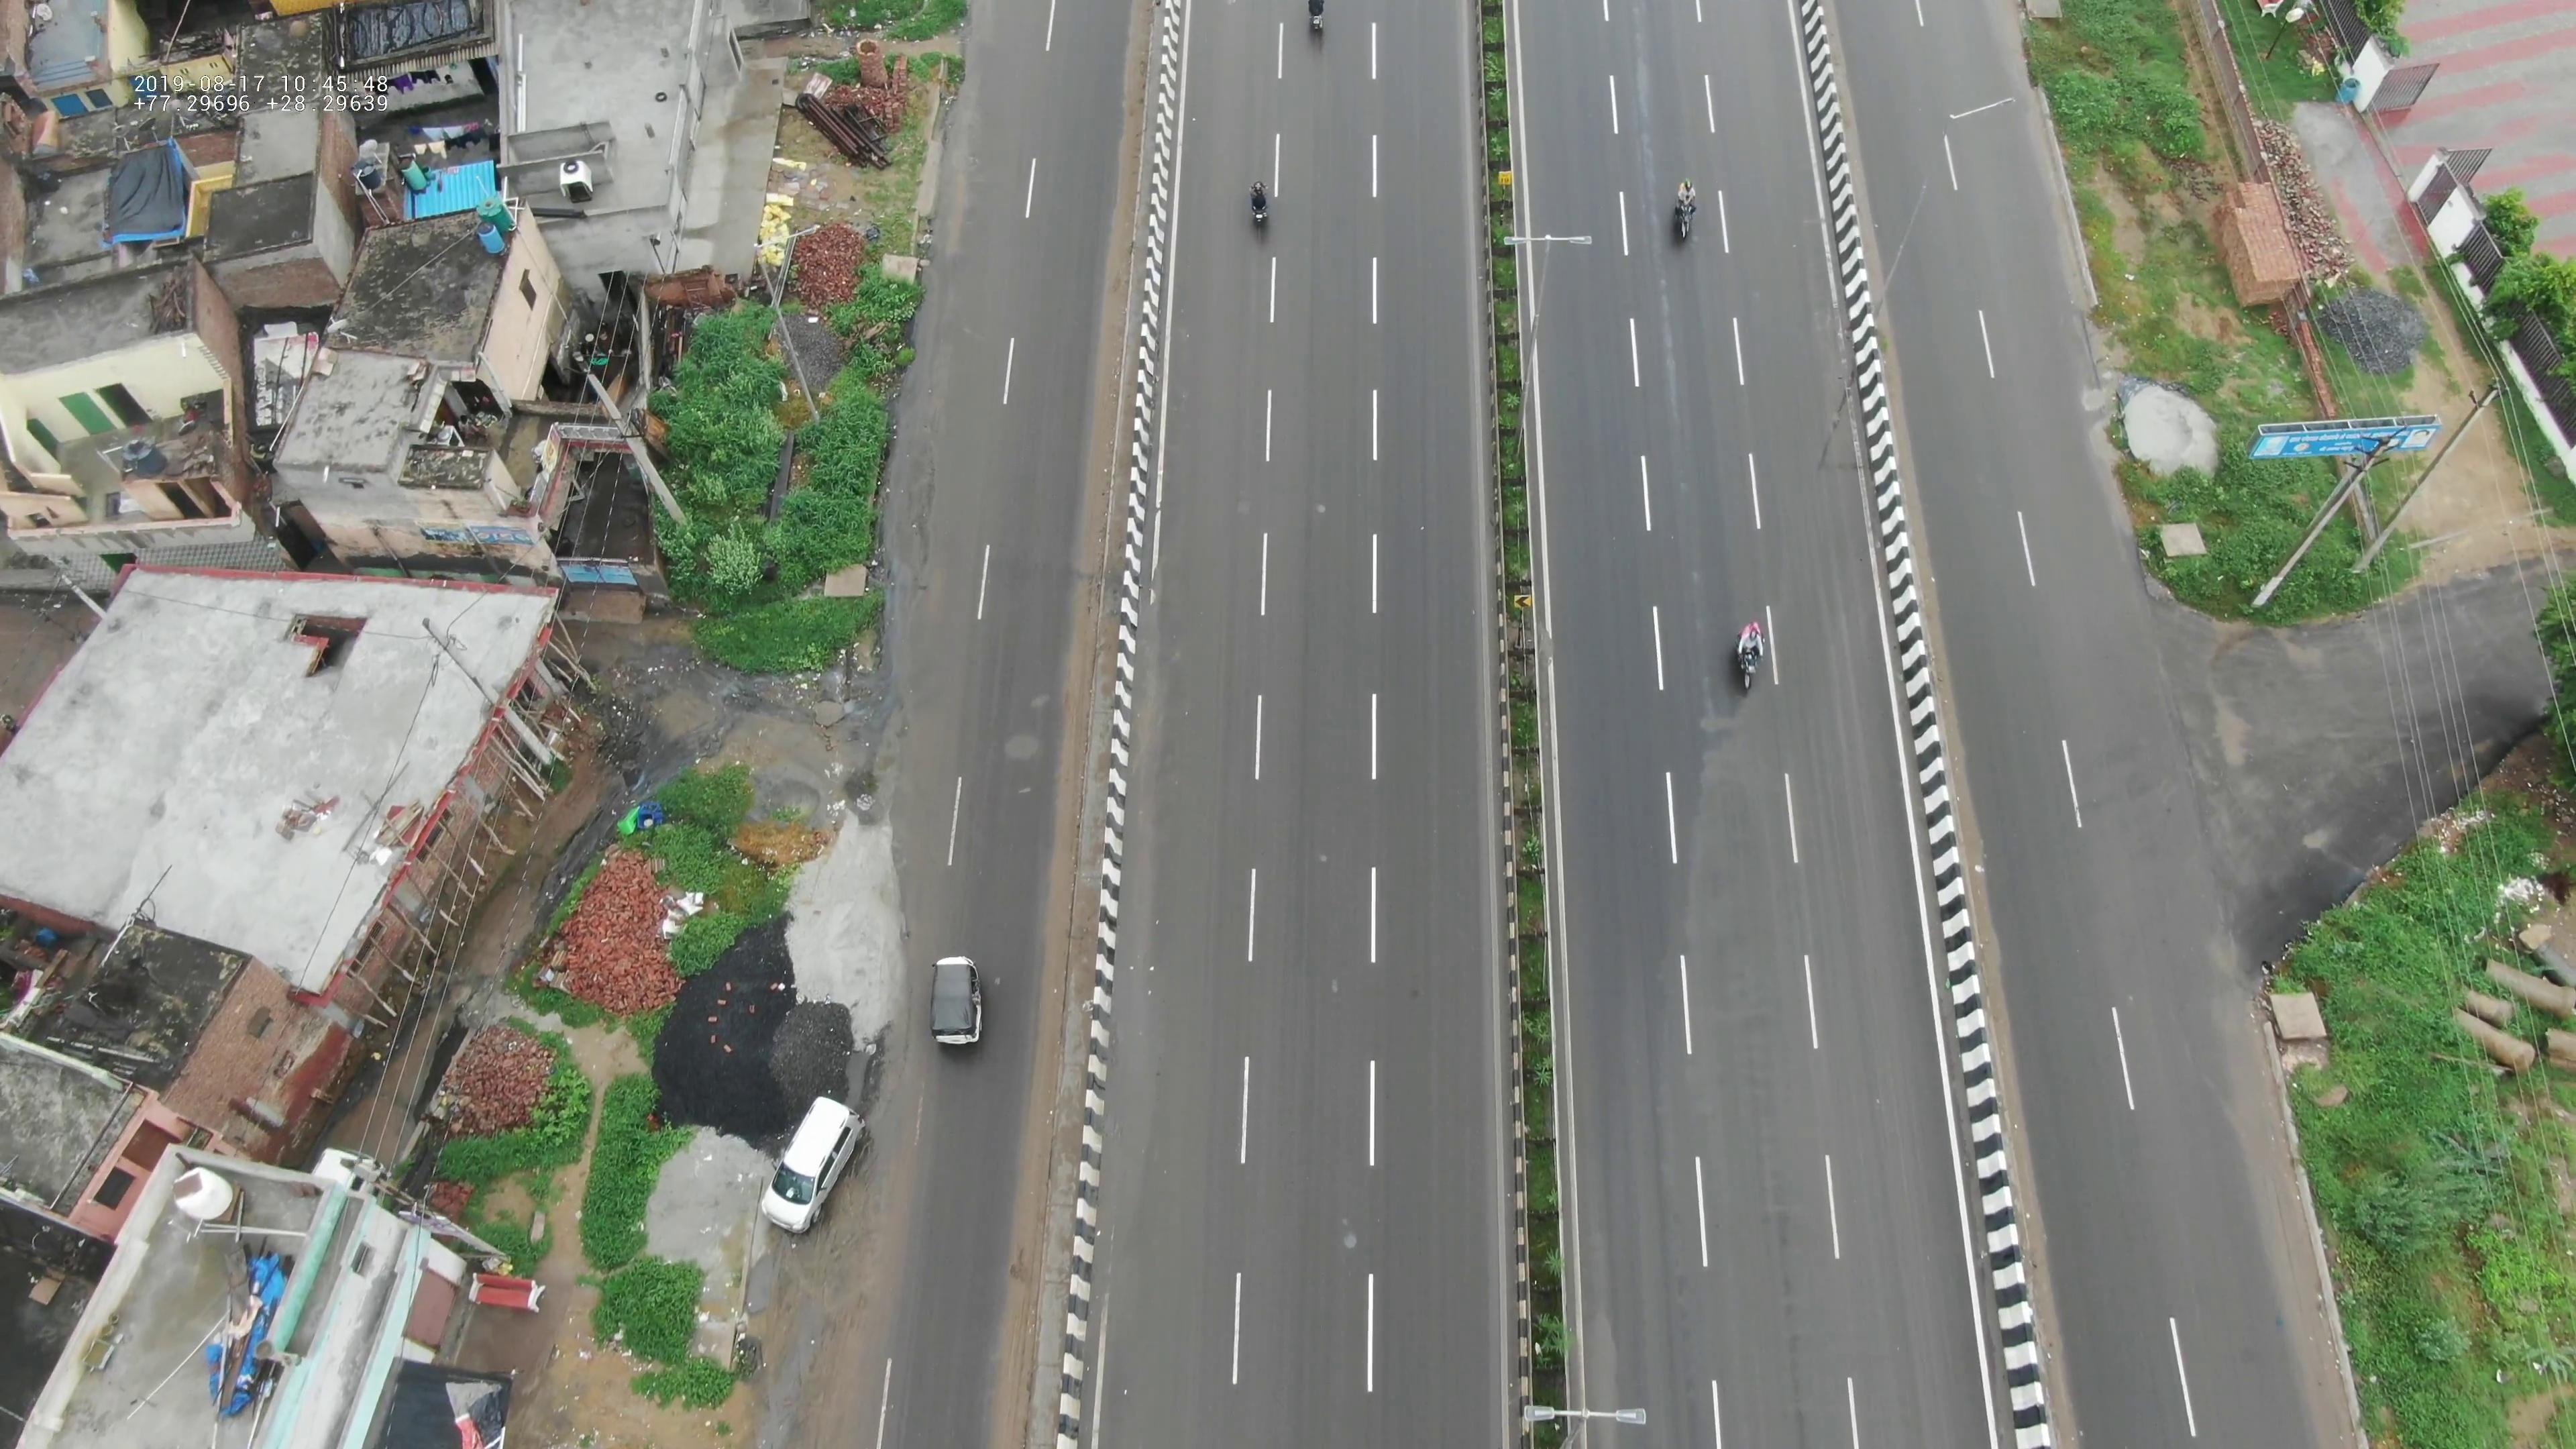Mud_heaps: (577, 775, 911, 1088), (640, 1113, 757, 1366)
